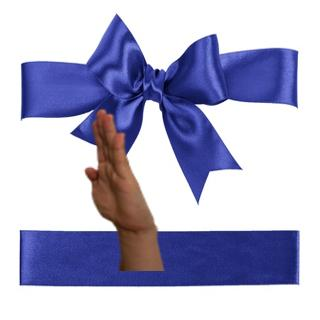RIGHT: (81, 106, 159, 237)
